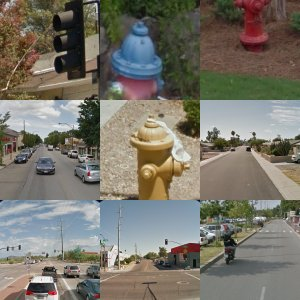樓梯: (118, 205, 171, 280), (205, 248, 264, 275), (241, 136, 267, 166)
汽車: (51, 119, 80, 144), (14, 123, 34, 141), (42, 78, 59, 89)
紅綠燈: (18, 199, 67, 250)
